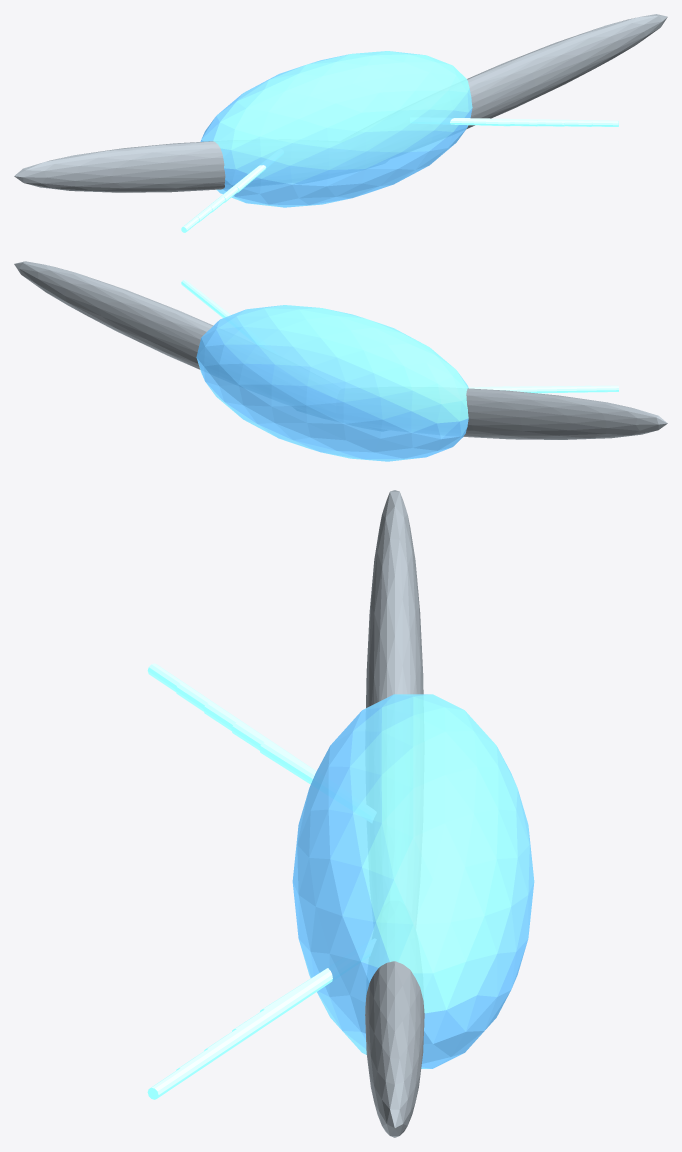
The model's file is 14_Cloud_Ray.glb.
3 renders of one model, top to bottom at view 1: azimuth 30°, elevation 25°; view 2: azimuth 150°, elevation 25°; view 3: azimuth 270°, elevation 25°, orthographic. The views are drawn at different scales.
Parts seen in each view (by area): view 1: 14_Cloud_Ray_00, 14_Cloud_Ray_01, 14_Cloud_Ray_07, 14_Cloud_Ray_08; view 2: 14_Cloud_Ray_00, 14_Cloud_Ray_01, 14_Cloud_Ray_07, 14_Cloud_Ray_06, 14_Cloud_Ray_12; view 3: 14_Cloud_Ray_00, 14_Cloud_Ray_01, 14_Cloud_Ray_07, 14_Cloud_Ray_12.
Part boxes in pixels (x1,y1,x2,y2): 14_Cloud_Ray_00: (200, 51, 472, 207); 14_Cloud_Ray_01: (14, 141, 225, 192); 14_Cloud_Ray_07: (466, 14, 667, 129); 14_Cloud_Ray_08: (450, 118, 510, 126); 14_Cloud_Ray_00: (196, 305, 468, 461); 14_Cloud_Ray_01: (463, 388, 667, 439); 14_Cloud_Ray_07: (14, 261, 213, 369); 14_Cloud_Ray_06: (469, 385, 618, 393); 14_Cloud_Ray_12: (181, 279, 228, 318); 14_Cloud_Ray_00: (292, 694, 534, 1068); 14_Cloud_Ray_01: (366, 490, 423, 708); 14_Cloud_Ray_07: (365, 961, 424, 1137); 14_Cloud_Ray_12: (147, 971, 332, 1099).
Size of the model in its own units: 8.12 by 1.6 by 2.08.
